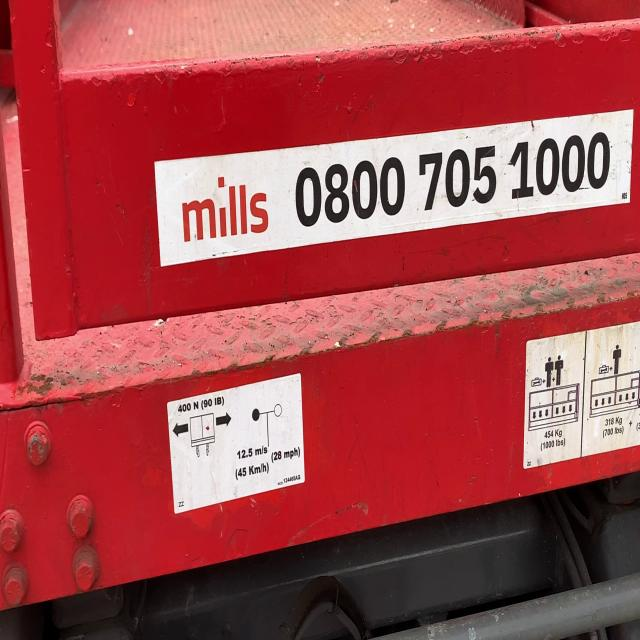Adesivo Longo: (151, 105, 636, 274)
